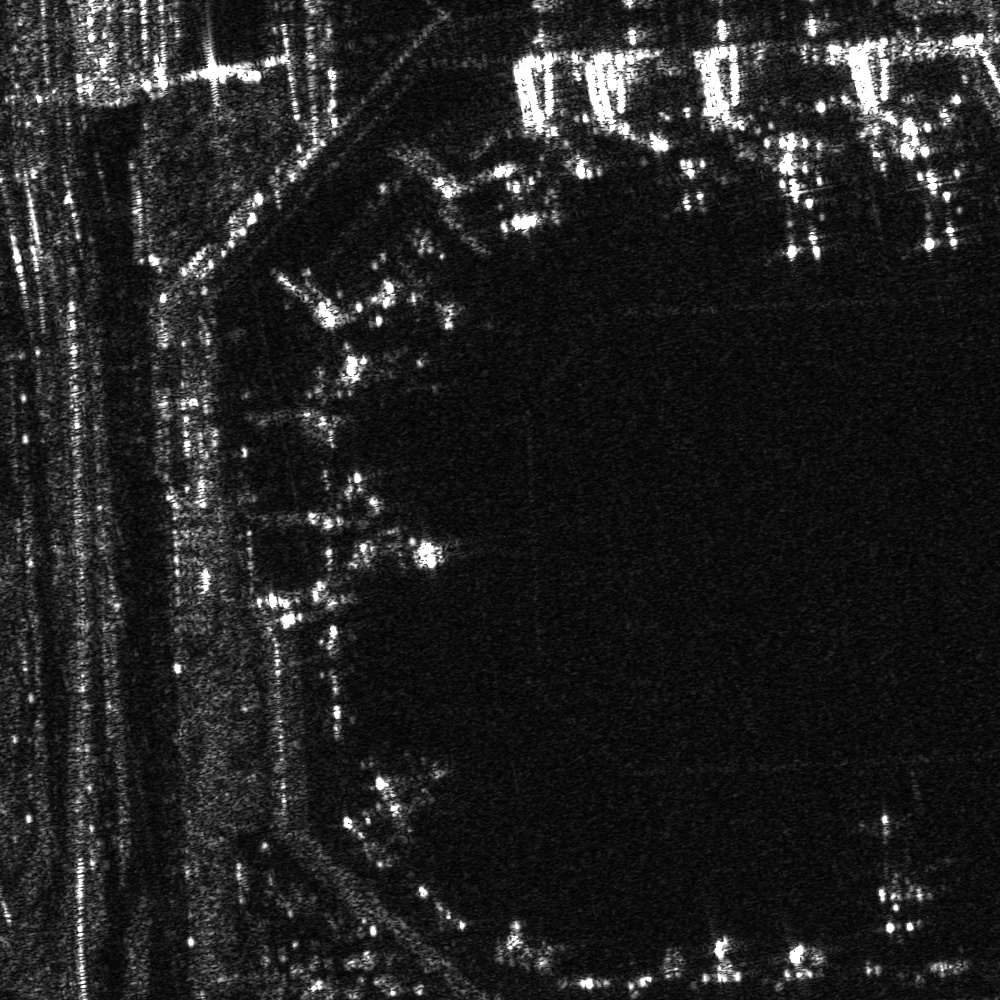Boeing787: (826, 805, 973, 946), (738, 174, 844, 264)
other: (888, 162, 988, 259)
